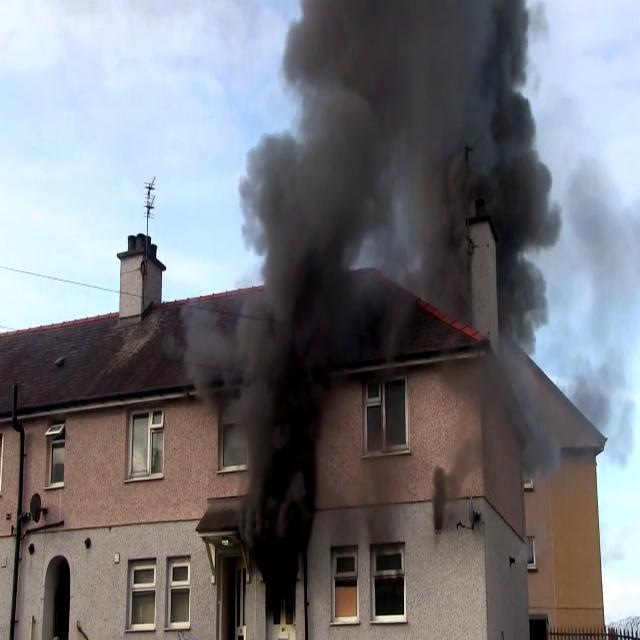Smoke: (240, 0, 556, 320), (433, 320, 560, 536), (246, 285, 336, 566), (175, 298, 242, 423)
